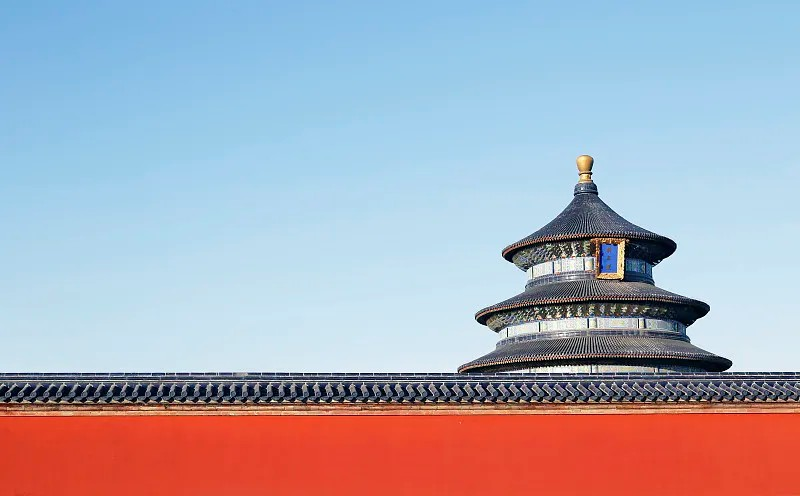Heaven: (458, 155, 734, 373)
